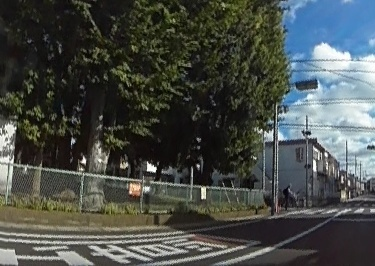person: (282, 181, 293, 209)
